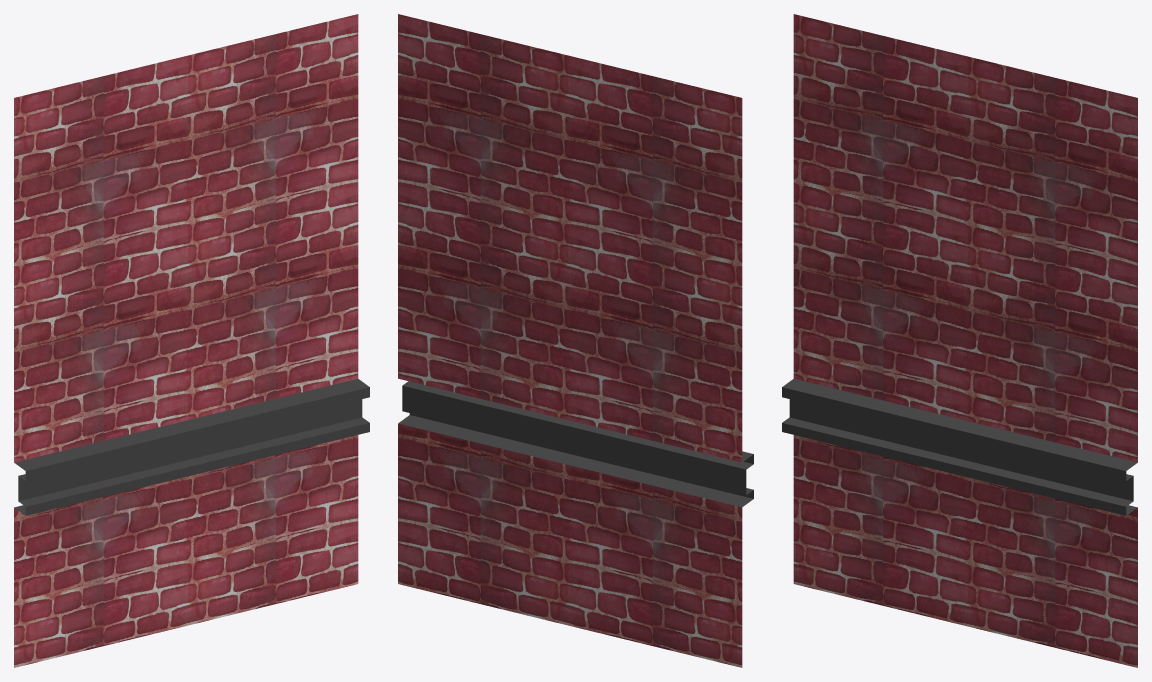
Rendered from Wall_Door.fbx.
3 renders of one model, left to right at view 1: azimuth 30°, elevation 25°; view 2: azimuth 150°, elevation 25°; view 3: azimuth 330°, elevation 25°, orthographic.
Parts seen in each view (by area): view 1: Wall_Doorway; view 2: Wall_Doorway; view 3: Wall_Doorway.
Part boxes in pixels (x1,y1,x2,y2): Wall_Doorway: [14, 14, 369, 667]; Wall_Doorway: [398, 14, 753, 667]; Wall_Doorway: [782, 14, 1137, 667].
Size of the model in its own units: 187 by 296 by 10.94.
